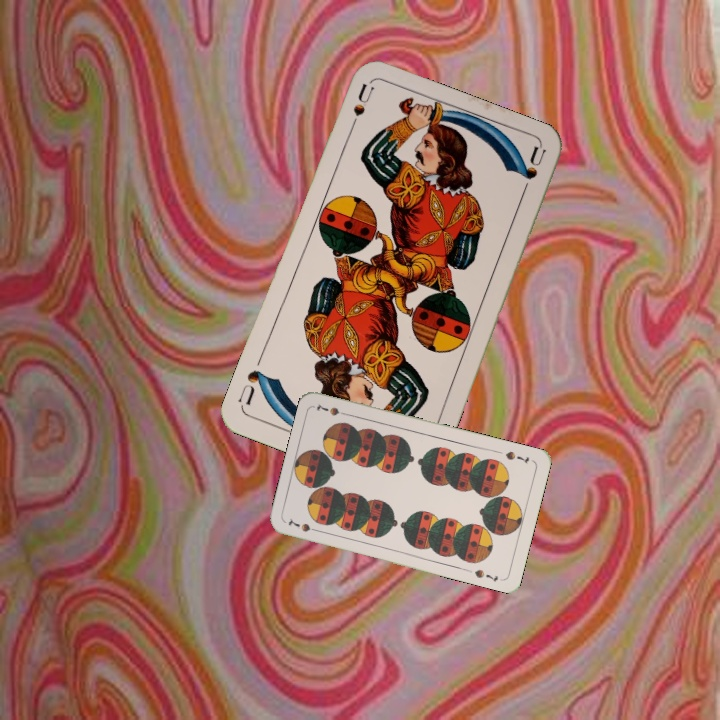S7: (284, 514, 323, 535), (501, 447, 532, 466)
SU: (344, 80, 377, 139)
